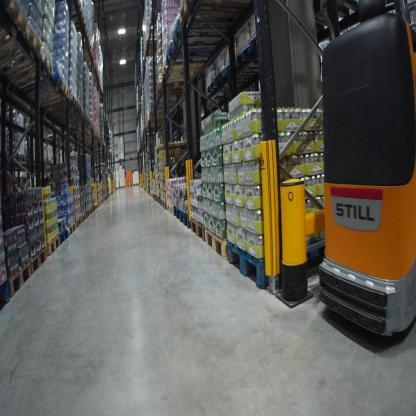pallets: (0, 199, 103, 311), (174, 204, 278, 299)
